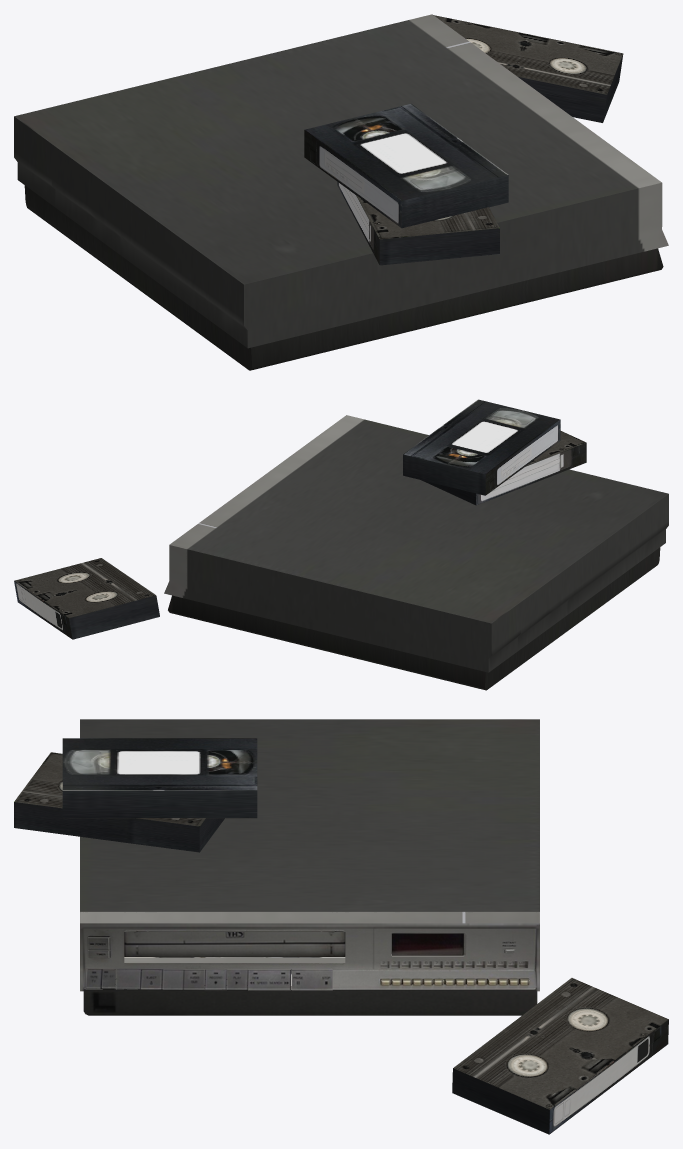
File: basura6.glb
The picture shows the model from 3 angles, top to bottom: view 1: azimuth 30°, elevation 25°; view 2: azimuth 150°, elevation 25°; view 3: azimuth 270°, elevation 25°; orthographic projection. The views are drawn at different scales.
Parts seen in each view (by area): view 1: VCR_Shell, VHS2_1, VCR_Bottom, VHS4_1, VHS1_1; view 2: VCR_Shell, VHS2_1, VCR_Bottom, VHS4_1, VHS1_1; view 3: VCR_Shell, VHS4_1, VHS2_1, VCR_Base_2, VCR_Bottom, VHS1_1, VCRVHS_drive_1, VCR_screen, vcrbutton9, vcrbutton10.
Part boxes in pixels (x1,y1,x2,y2): VCR_Shell: [14, 14, 668, 348]; VHS2_1: [304, 103, 508, 228]; VCR_Bottom: [24, 185, 663, 370]; VHS4_1: [433, 15, 623, 122]; VHS1_1: [337, 182, 499, 265]; VCR_Shell: [164, 415, 668, 672]; VHS2_1: [403, 399, 560, 495]; VCR_Bottom: [168, 547, 660, 690]; VHS4_1: [14, 558, 159, 639]; VHS1_1: [421, 431, 586, 505]; VCR_Shell: [80, 719, 539, 991]; VHS4_1: [452, 978, 668, 1134]; VHS2_1: [62, 738, 257, 818]; VCR_Base_2: [83, 928, 536, 989]; VCR_Bottom: [83, 957, 537, 1015]; VHS1_1: [14, 752, 224, 852]; VCRVHS_drive_1: [124, 932, 345, 956]; VCR_screen: [392, 933, 463, 955]; vcrbutton9: [248, 969, 290, 990]; vcrbutton10: [291, 969, 332, 990].
Bounding box in the file's own units: 2.94 × 0.7829 × 2.71.
Materials: 21 (21 with a texture image).
